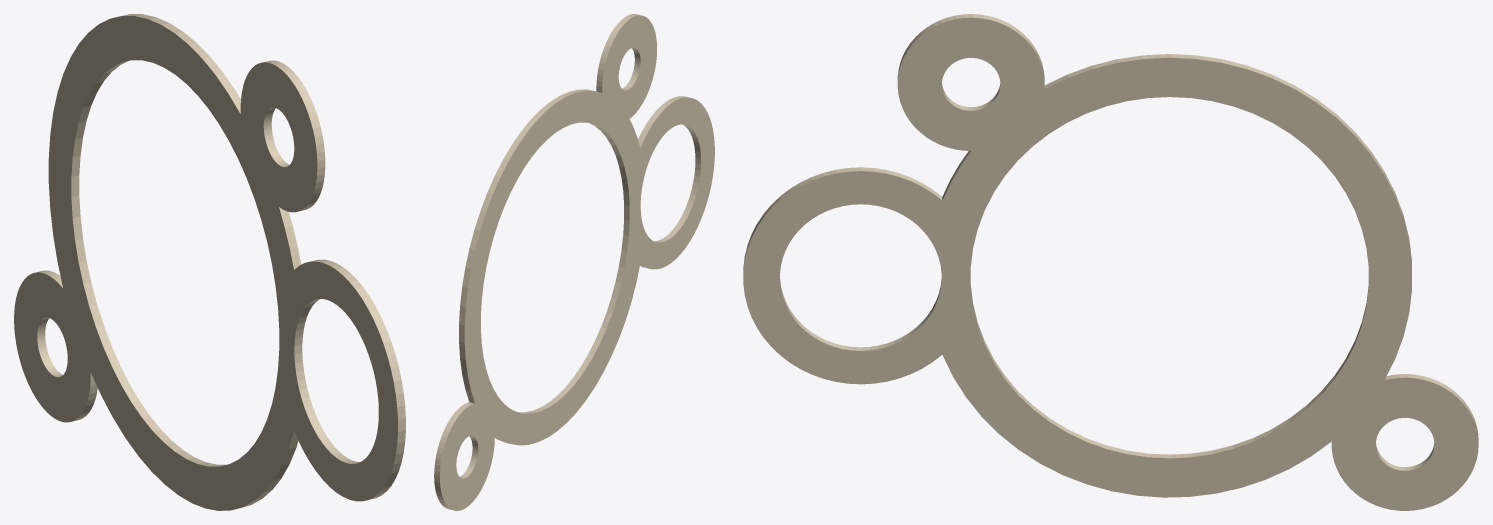
Rendered from coolant-outlet-gasket.glb.
3 renders of one model, left to right at view 1: azimuth 30°, elevation 25°; view 2: azimuth 150°, elevation 25°; view 3: azimuth 270°, elevation 25°, orthographic. The views are drawn at different scales.
Visible parts, largest first — view 1: world; view 2: world; view 3: world.
Boxes of the visible parts, x1,y1,x2,y2 form: world: (14,14,405,510); world: (434,14,714,510); world: (743,14,1478,510).
Size of the model in its own units: 0.0012 by 0.074 by 0.1.
